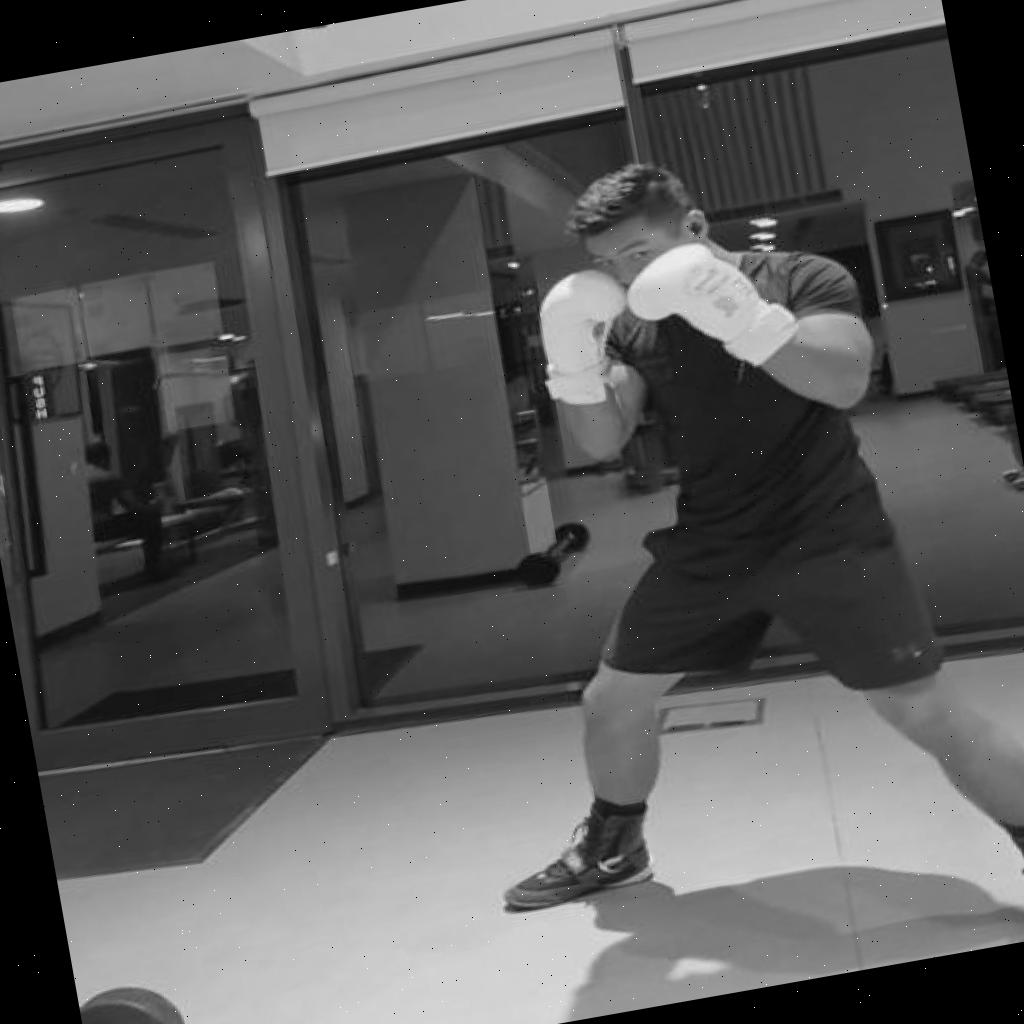no punch: (383, 108, 1024, 1024)
